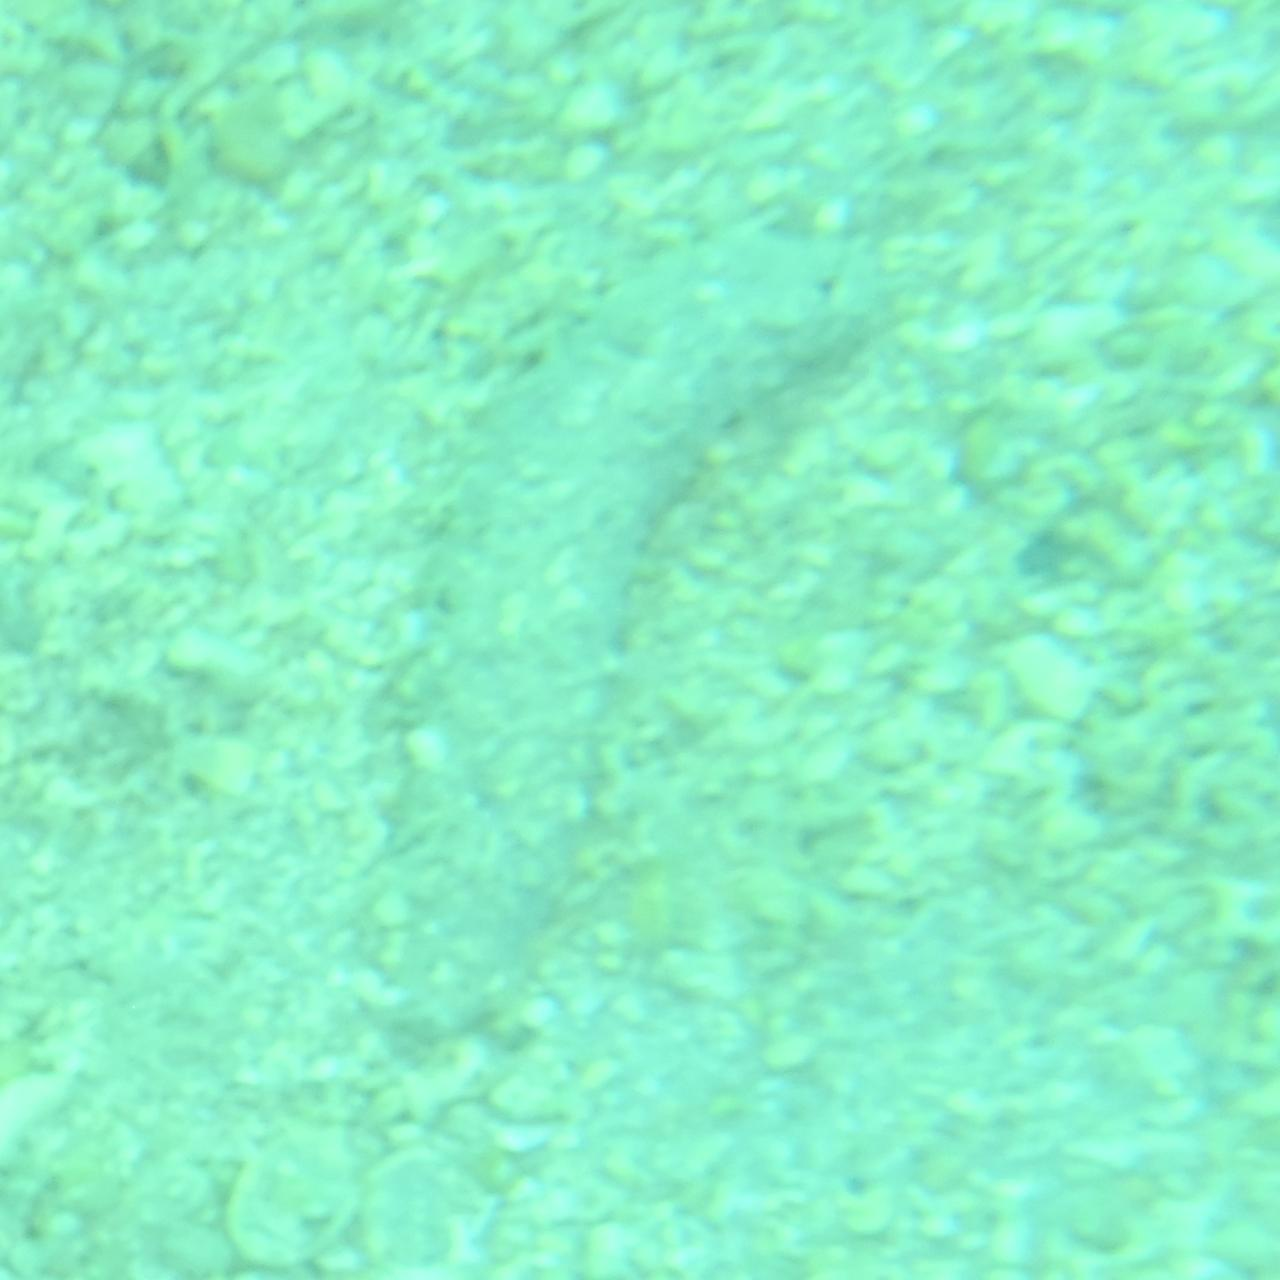Holothuria tubulosa: (348, 232, 932, 1048)
